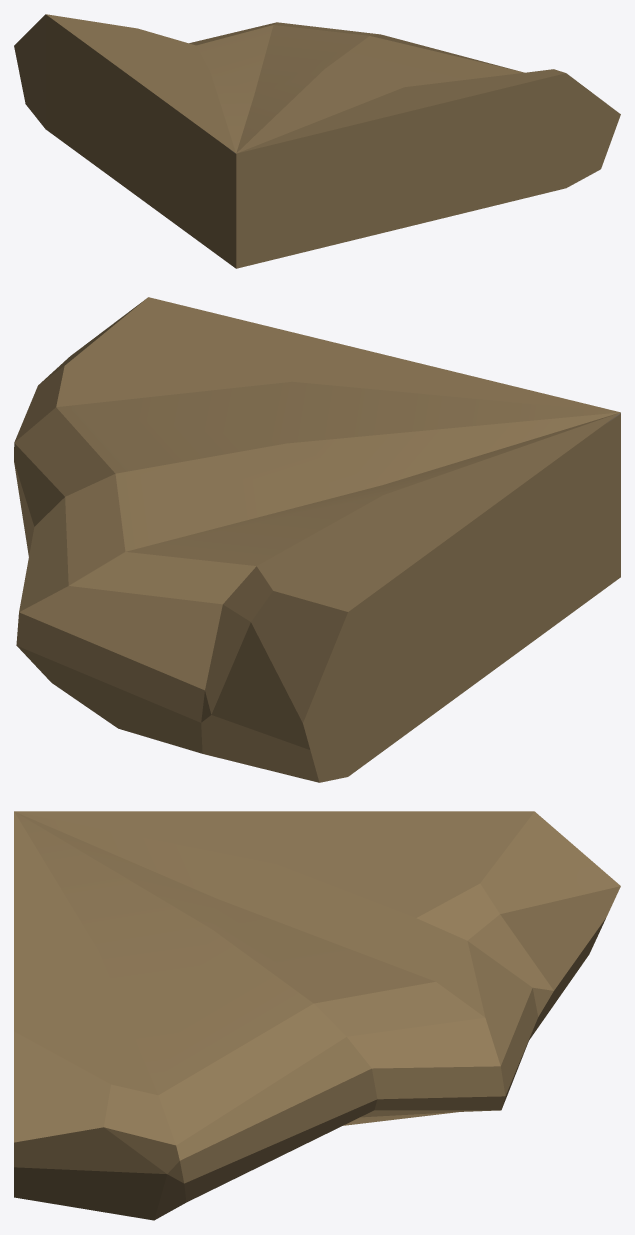
File: LightRockEdgeLargeExternalCurve1.fbx
The picture shows the model from 3 angles, top to bottom: view 1: azimuth 30°, elevation 25°; view 2: azimuth 150°, elevation 25°; view 3: azimuth 270°, elevation 25°; orthographic projection. The views are drawn at different scales.
Parts seen in each view (by area): view 1: LightNaturalRockEdgeLargeExternalCurve_1; view 2: LightNaturalRockEdgeLargeExternalCurve_1; view 3: LightNaturalRockEdgeLargeExternalCurve_1.
Boxes of the visible parts, x1,y1,x2,y2 form: LightNaturalRockEdgeLargeExternalCurve_1: (14, 14, 620, 268); LightNaturalRockEdgeLargeExternalCurve_1: (14, 297, 620, 782); LightNaturalRockEdgeLargeExternalCurve_1: (14, 811, 620, 1220).
Size of the model in its own units: 699 by 265 by 700.
Materials: 1 (1 with a texture image).
